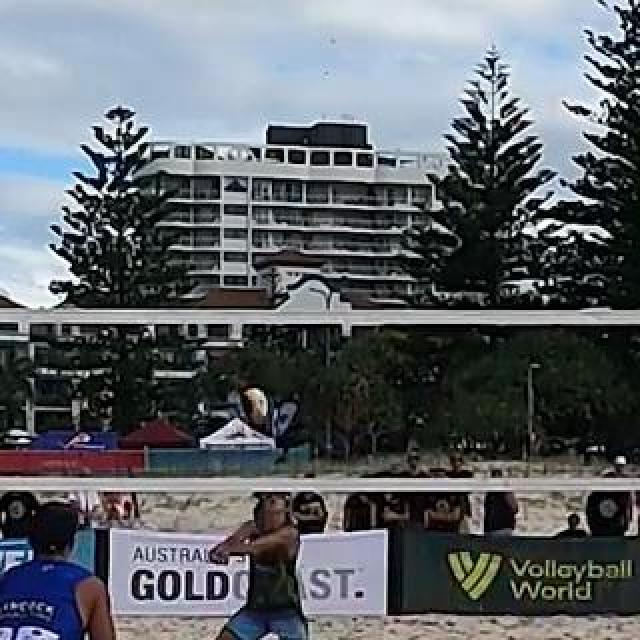volleyball: (240, 388, 270, 422)
